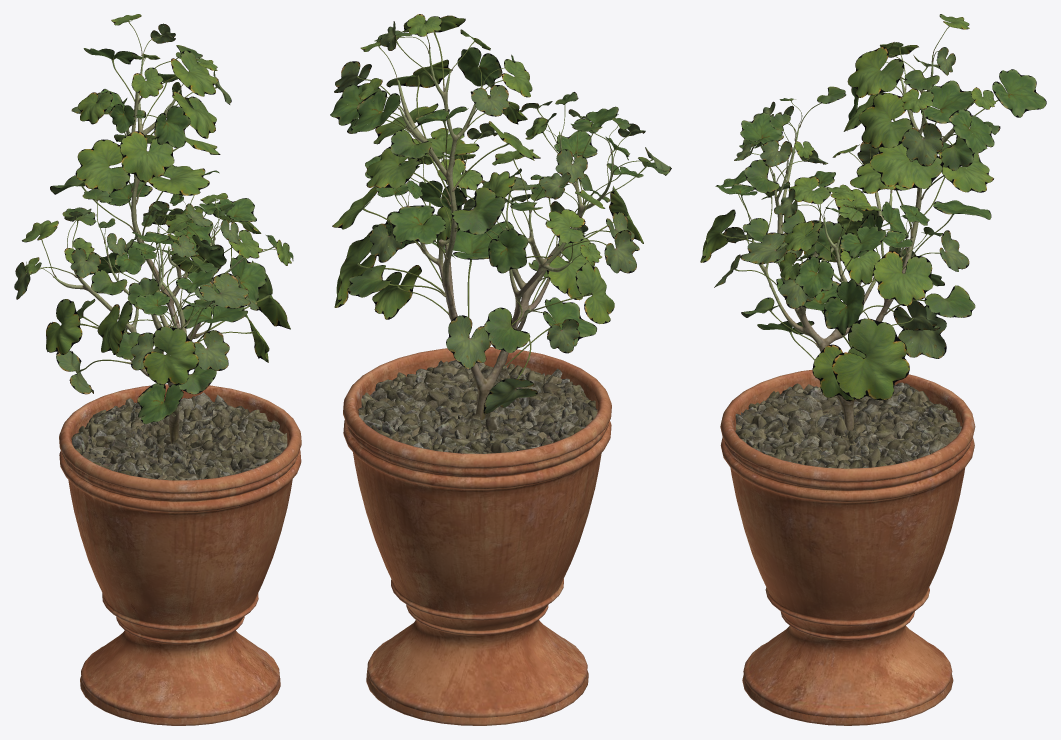
Rendered from ph_potted_plant_01.glb.
3 views of the same model, side by side, from view 1: azimuth 30°, elevation 25°; view 2: azimuth 150°, elevation 25°; view 3: azimuth 270°, elevation 25° (orthographic). The views are drawn at different scales.
Parts seen in each view (by area): view 1: ph_potted_plant_01; view 2: ph_potted_plant_01; view 3: ph_potted_plant_01.
Part boxes in pixels (x1,y1,x2,y2): ph_potted_plant_01: (14, 14, 301, 725); ph_potted_plant_01: (330, 14, 671, 725); ph_potted_plant_01: (700, 14, 1046, 725).
Size of the model in its own units: 0.5874 by 1.34 by 0.6336.
Materials: 2 (2 with a texture image).
